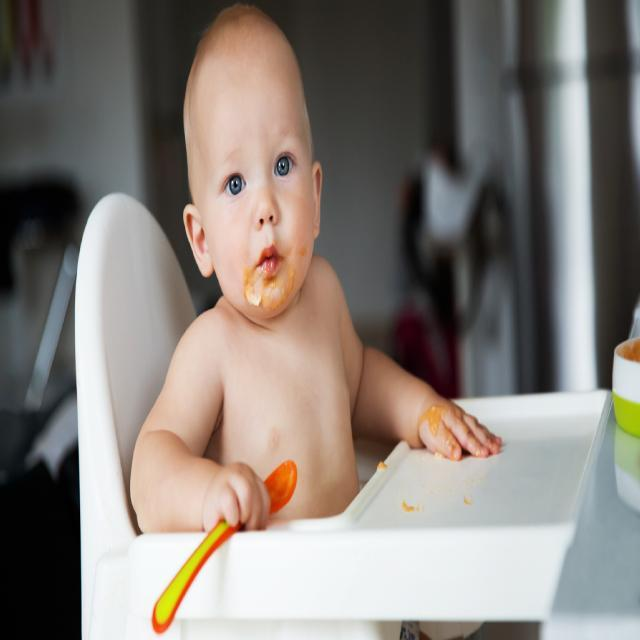non-dog: (130, 2, 501, 535)
